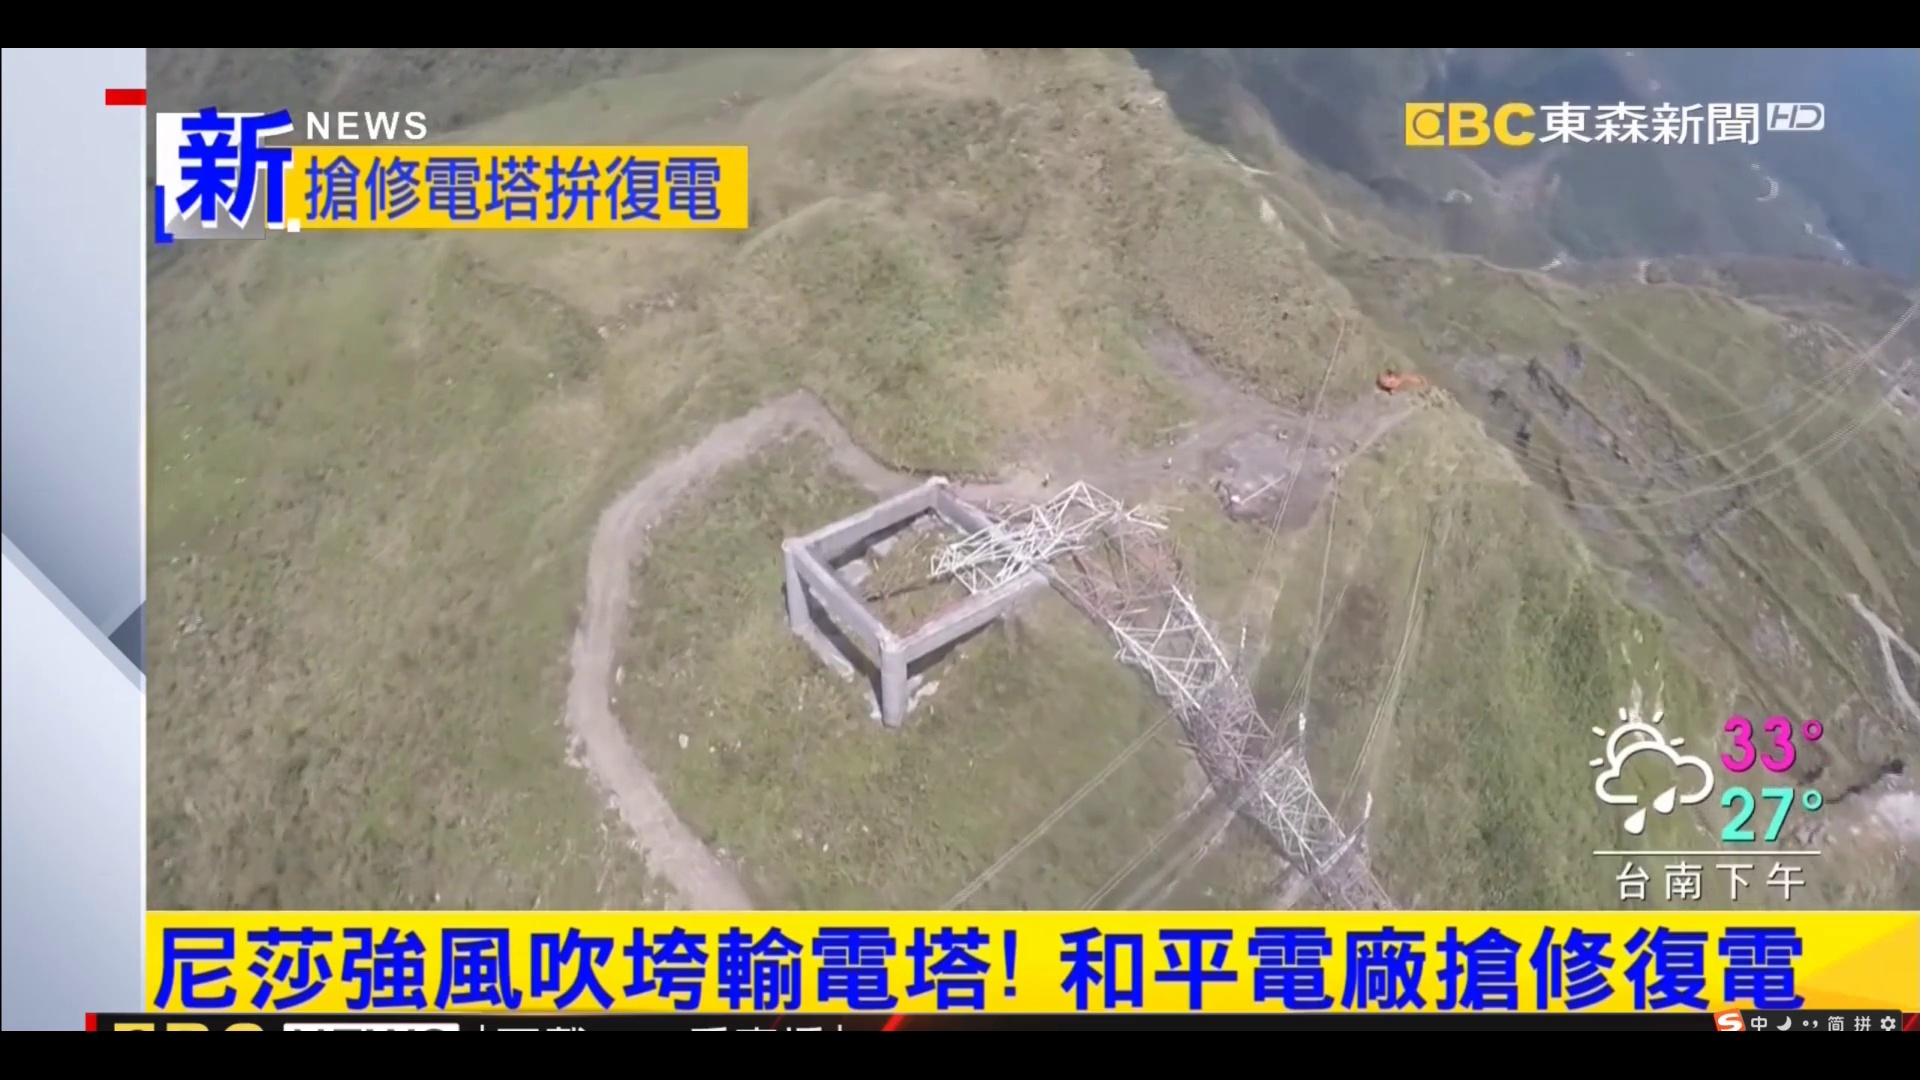tower_down: (957, 467, 1374, 903)
